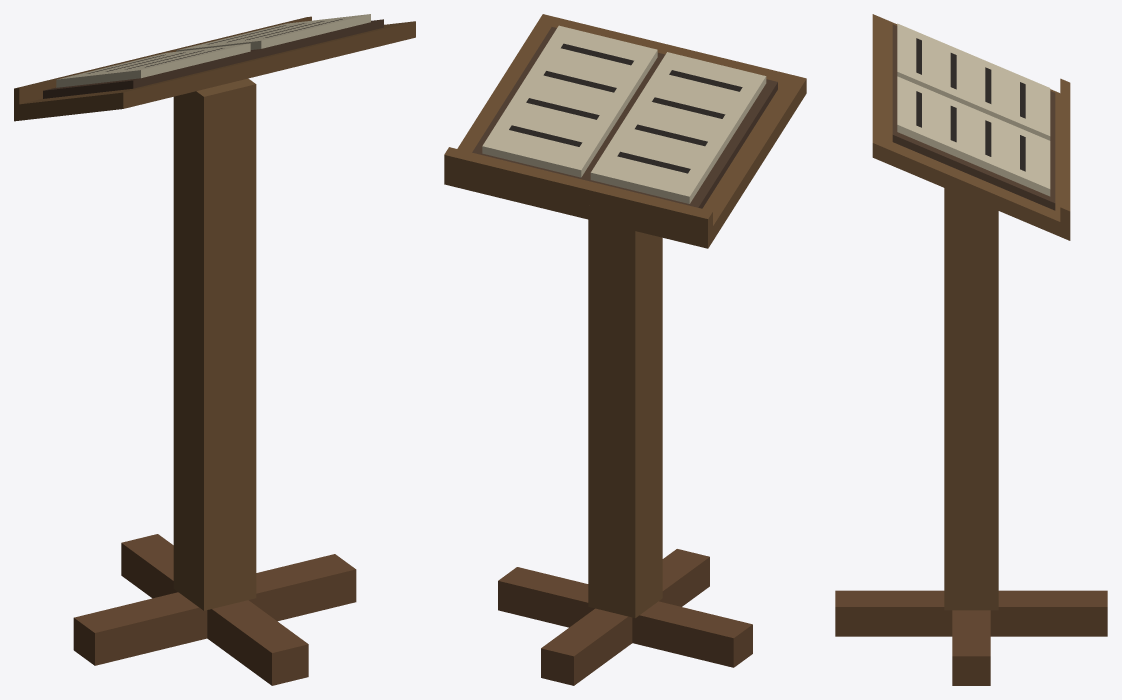
Rendered from Lectern.fbx.
3 renders of one model, left to right at view 1: azimuth 30°, elevation 25°; view 2: azimuth 150°, elevation 25°; view 3: azimuth 270°, elevation 25°, orthographic. The views are drawn at different scales.
Parts seen in each view (by area): view 1: Lectern; view 2: Lectern; view 3: Lectern.
Part boxes in pixels (x1,y1,x2,y2): Lectern: (14, 14, 415, 685); Lectern: (444, 14, 806, 685); Lectern: (835, 14, 1107, 685).
Size of the model in its own units: 0.56 by 1.12 by 0.5.
